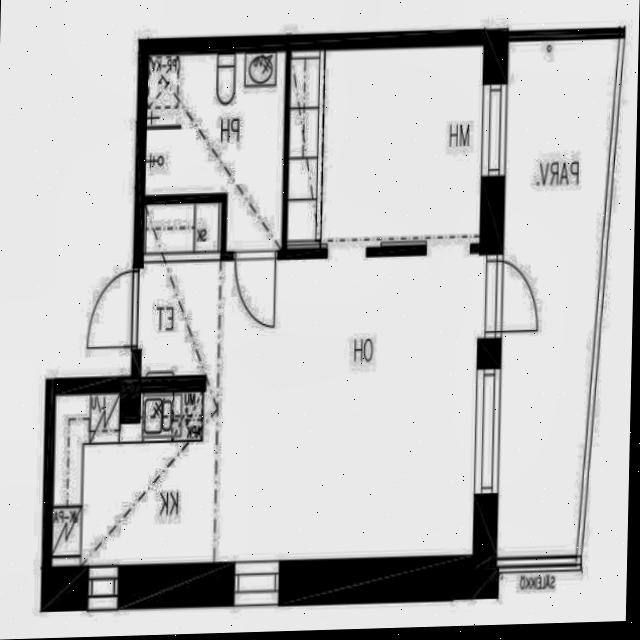room: (144, 48, 285, 253)
